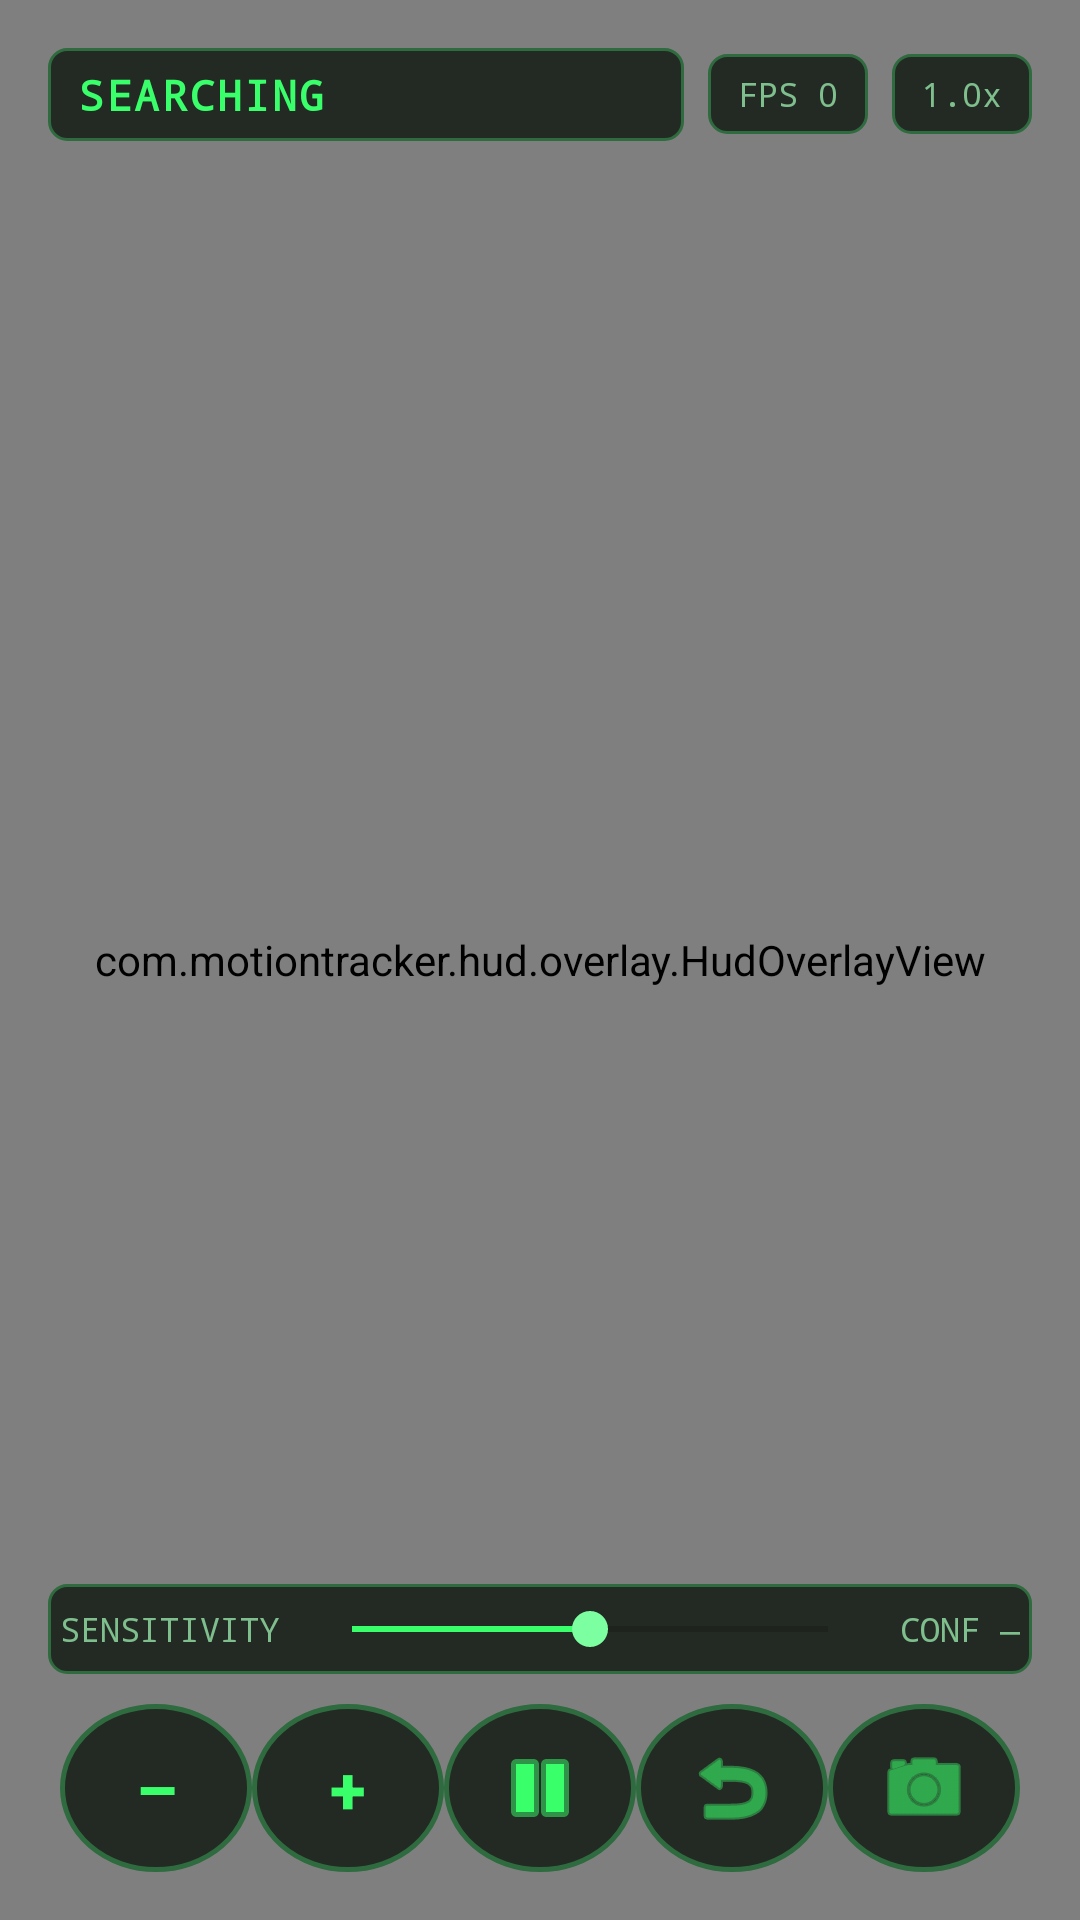

Icons on this 1080 × 1920 Android screen, each with the point to tap as (x=x, y=y):
CAPTURE: (x=924, y=1788)
PAUSE: (x=540, y=1788)
RESET: (x=732, y=1788)
